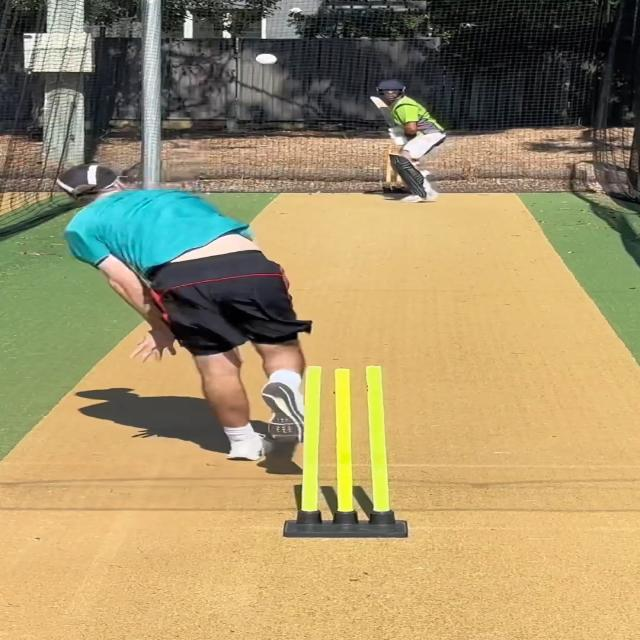ball: (252, 50, 282, 68)
stump: (281, 364, 408, 538)
